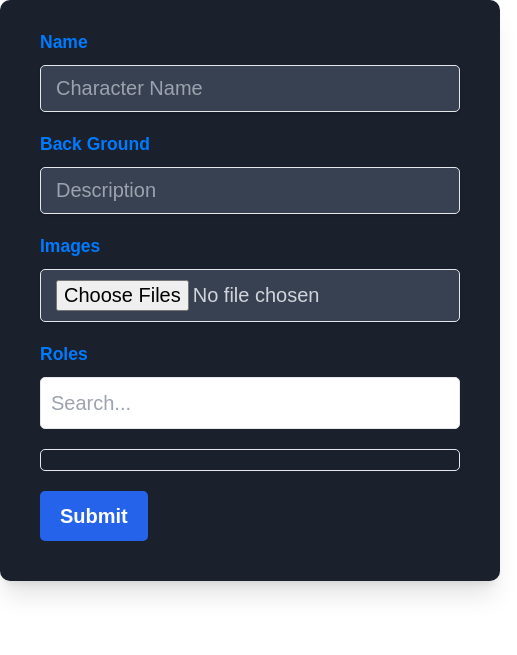
Test: CharacterForm Component › handles network errors correctly
The width and height of the screenshot is (517, 655).
Type "Test Character" into the field labelled "Name".
click(250, 88); type("Test Character")  # box [40,65,460,112]
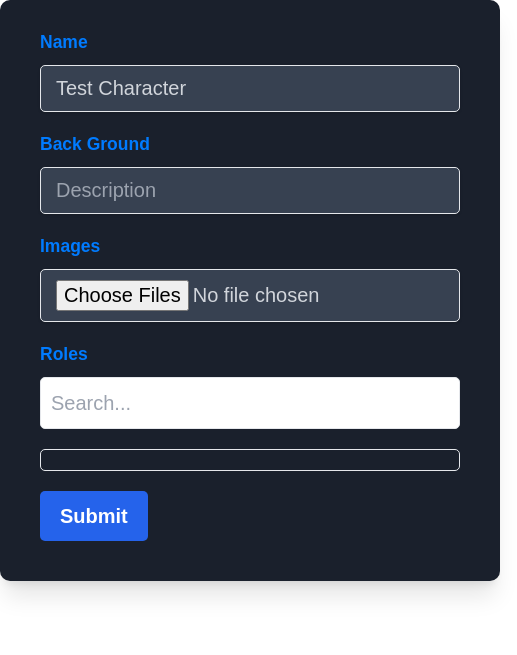
Type "Test Description" into the field labelled "Back Ground".
click(250, 190); type("Test Description")  # box [40,167,460,214]
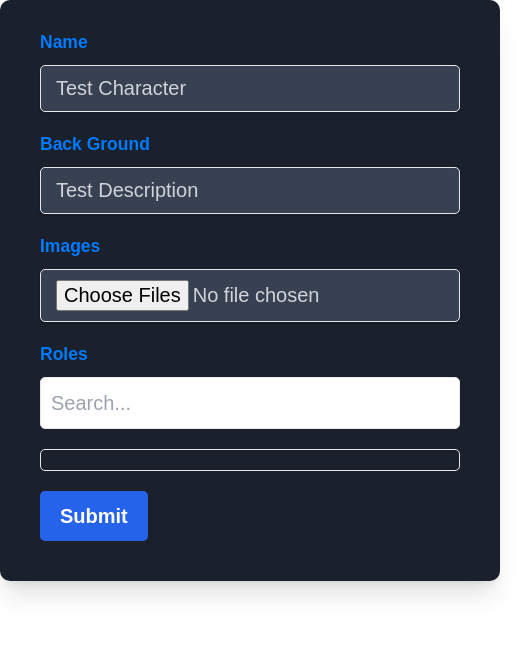
Click the button "Submit".
click(94, 516)  # box [40,491,148,541]
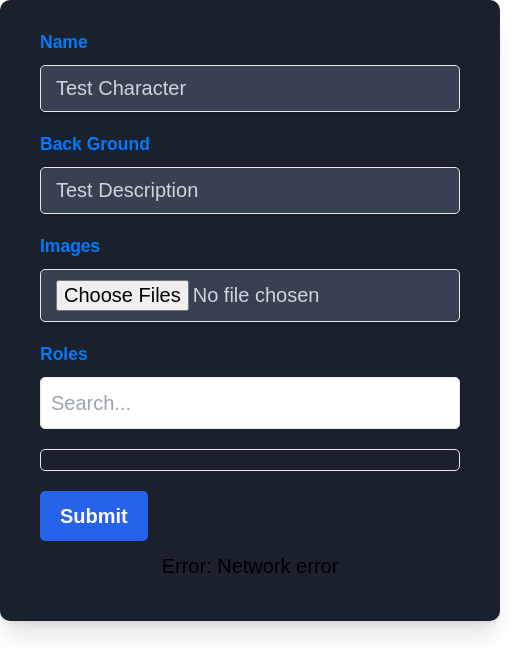
Now the text "Error: Network error" is shown, box [162,555,338,577]
